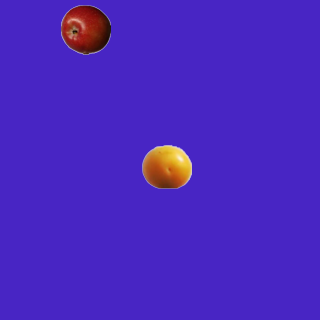Apple Braeburn: (60, 4, 110, 54)
Cherry Wax Yellow: (141, 141, 191, 191)
